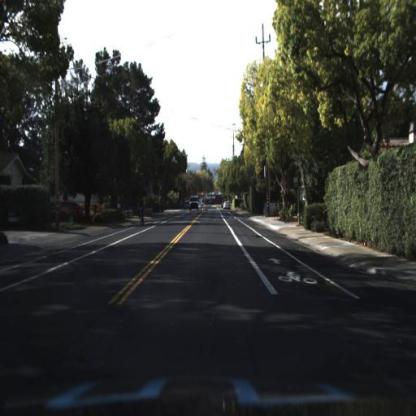biker: (136, 192, 148, 232), (137, 193, 149, 229)
car: (42, 196, 89, 232), (52, 199, 86, 222), (188, 195, 202, 218), (187, 196, 201, 212), (222, 199, 233, 213), (222, 199, 233, 212)
